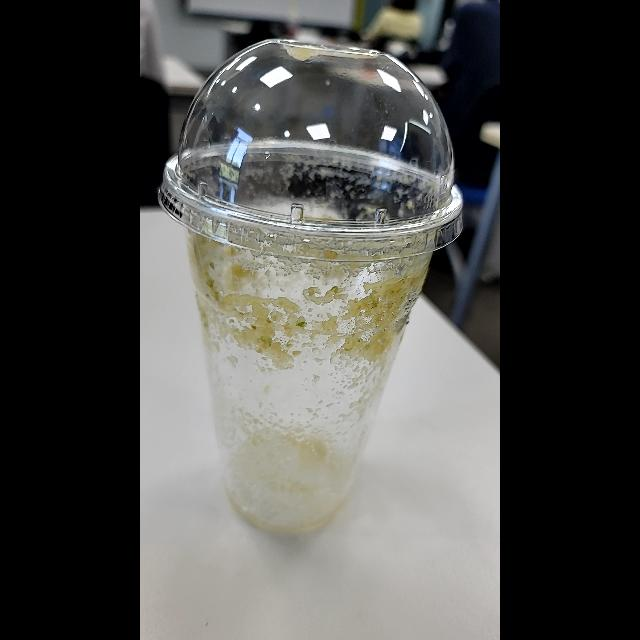plastic_cup: (162, 37, 462, 539)
plastic_cup_lid: (162, 38, 468, 262)
